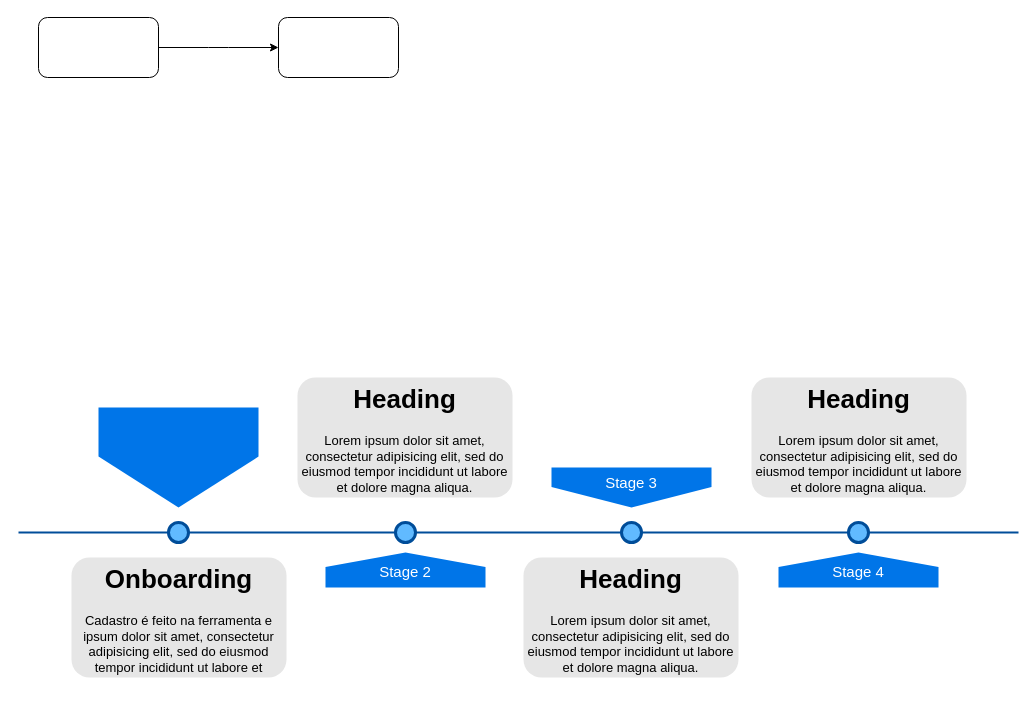
This 1036x707 diagram has some shape labels left out. Each missing label, with the centre of its shape:
"Onboarding" goes at point 98,47.
"Passo 1" goes at point 178,457.
